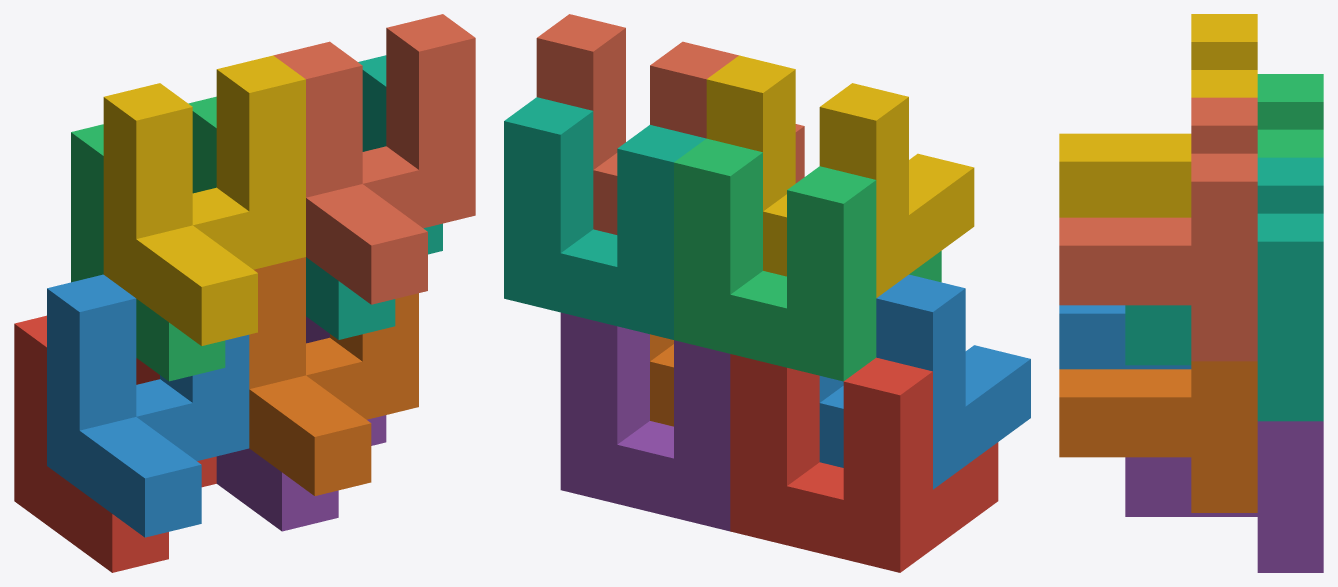
File: tiling.obj
3 views of the same model, side by side, from view 1: azimuth 30°, elevation 25°; view 2: azimuth 150°, elevation 25°; view 3: azimuth 270°, elevation 25° (orthographic).
Parts seen in each view (by area): view 1: copy_1_domain_4, copy_1_domain_8, copy_1_domain_2, copy_1_domain_6, copy_1_domain_1, copy_1_domain_3, copy_1_domain_7, copy_1_domain_5; view 2: copy_1_domain_1, copy_1_domain_3, copy_1_domain_7, copy_1_domain_5, copy_1_domain_4, copy_1_domain_2, copy_1_domain_8, copy_1_domain_6; view 3: copy_1_domain_8, copy_1_domain_6, copy_1_domain_7, copy_1_domain_4, copy_1_domain_5, copy_1_domain_3, copy_1_domain_2.
Boxes of the visible parts, left/top/right/bottom form: copy_1_domain_4: left=103, top=55, right=305, bottom=345; copy_1_domain_8: left=273, top=14, right=475, bottom=304; copy_1_domain_2: left=47, top=274, right=249, bottom=537; copy_1_domain_6: left=249, top=257, right=418, bottom=495; copy_1_domain_1: left=14, top=315, right=216, bottom=572; copy_1_domain_3: left=71, top=96, right=225, bottom=381; copy_1_domain_7: left=306, top=55, right=442, bottom=339; copy_1_domain_5: left=216, top=316, right=386, bottom=531; copy_1_domain_1: left=730, top=354, right=998, bottom=572; copy_1_domain_3: left=674, top=138, right=941, bottom=381; copy_1_domain_7: left=504, top=97, right=705, bottom=339; copy_1_domain_5: left=560, top=312, right=730, bottom=531; copy_1_domain_4: left=706, top=55, right=974, bottom=297; copy_1_domain_2: left=819, top=274, right=1030, bottom=489; copy_1_domain_8: left=536, top=14, right=804, bottom=234; copy_1_domain_6: left=650, top=334, right=673, bottom=426; copy_1_domain_8: left=1059, top=97, right=1257, bottom=361; copy_1_domain_6: left=1059, top=361, right=1257, bottom=512; copy_1_domain_7: left=1125, top=157, right=1323, bottom=421; copy_1_domain_4: left=1059, top=14, right=1257, bottom=217; copy_1_domain_5: left=1125, top=421, right=1323, bottom=572; copy_1_domain_3: left=1257, top=74, right=1323, bottom=157; copy_1_domain_2: left=1059, top=305, right=1191, bottom=369.
Size of the model in its own units: 7 by 7 by 4.
